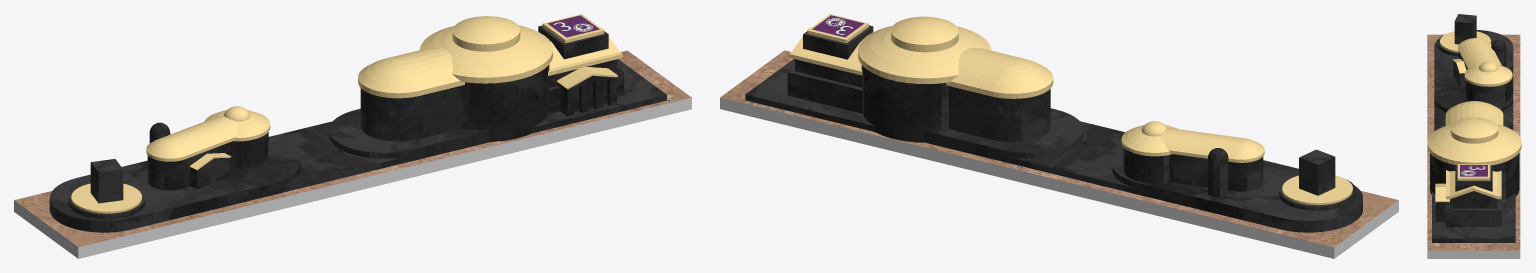
Rendered from buildingFundicionRecta.glb.
3 renders of one model, left to right at view 1: azimuth 30°, elevation 25°; view 2: azimuth 150°, elevation 25°; view 3: azimuth 270°, elevation 25°, orthographic. The views are drawn at different scales.
Parts seen in each view (by area): view 1: FundicionI; view 2: FundicionI; view 3: FundicionI.
Boxes of the visible parts, x1,y1,x2,y2 form: FundicionI: (14,14,691,258); FundicionI: (720,14,1398,258); FundicionI: (1427,14,1521,258).
Bounding box in the file's own units: 11 × 1.8 × 2.03.
Materials: 5 (3 with a texture image).
